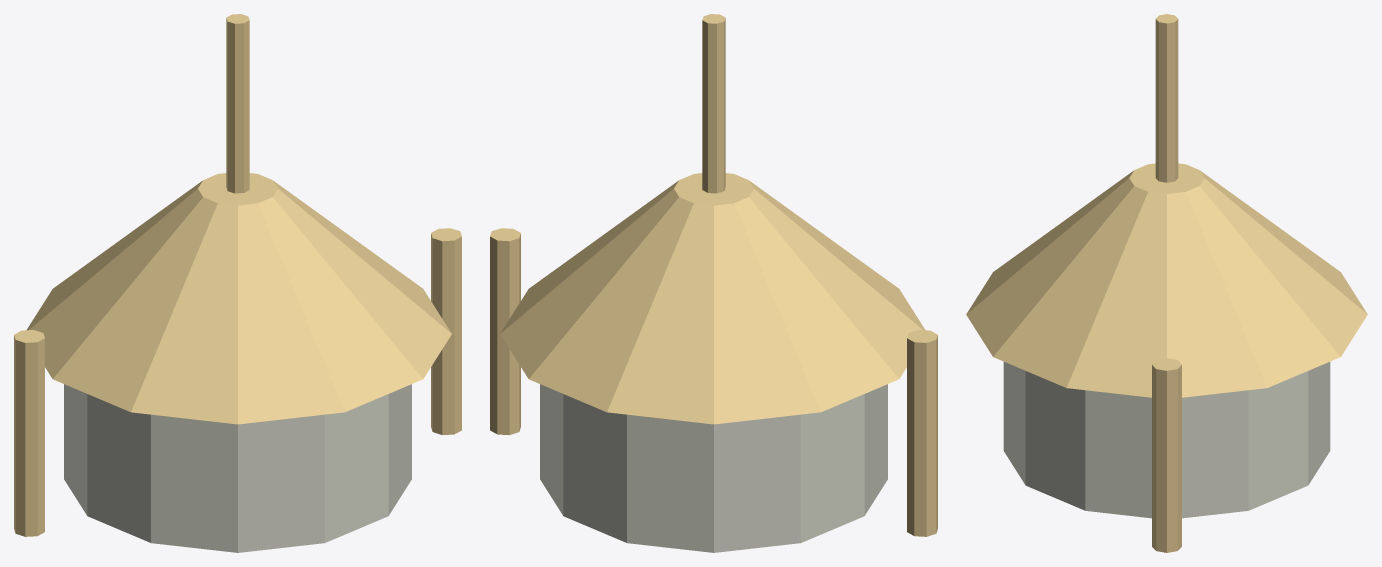
File: architecture.glb
3 views of the same model, side by side, from view 1: azimuth 30°, elevation 25°; view 2: azimuth 150°, elevation 25°; view 3: azimuth 270°, elevation 25° (orthographic). The views are drawn at different scales.
Visible parts, largest first — view 1: meridians roof silhouette; view 2: meridians roof silhouette; view 3: meridians roof silhouette.
Boxes of the visible parts, x1,y1,x2,y2 form: meridians roof silhouette: [14, 14, 461, 552]; meridians roof silhouette: [490, 14, 937, 552]; meridians roof silhouette: [966, 14, 1367, 552].
Bounding box in the file's own units: 1.92 × 1.9 × 1.6.
